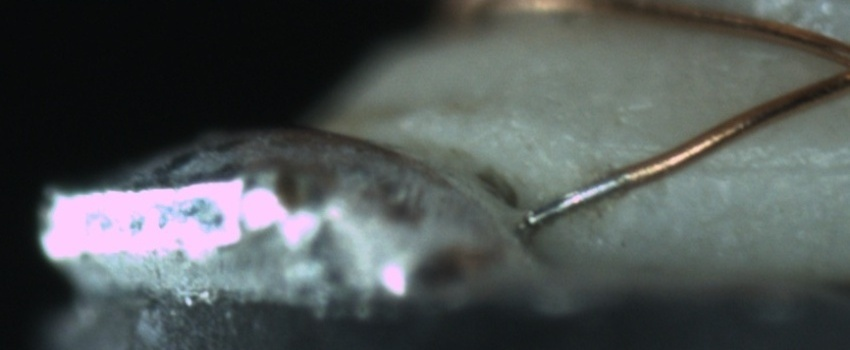CL: (830, 38, 850, 90)
DL: (673, 135, 849, 199)
TS: (525, 171, 624, 226)
